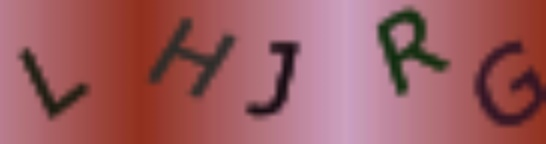G: (469, 38, 545, 130)
H: (147, 13, 239, 100)
J: (240, 36, 310, 122)
L: (13, 41, 95, 121)
R: (373, 3, 452, 99)
